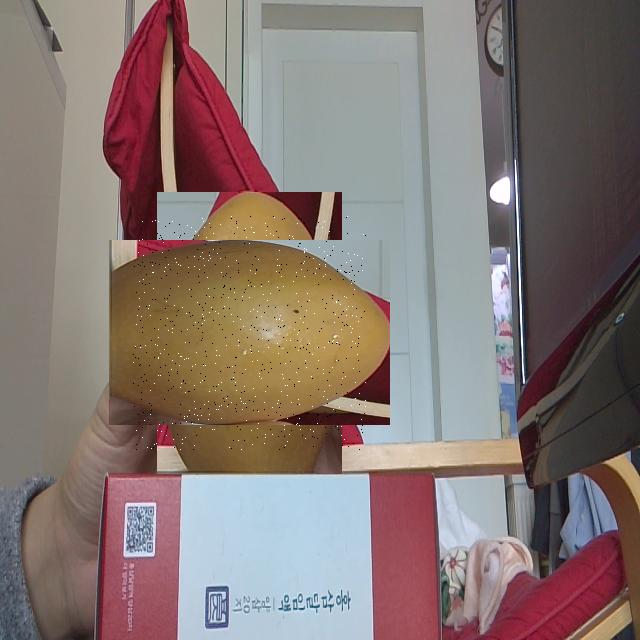pear: (133, 216, 366, 450)
